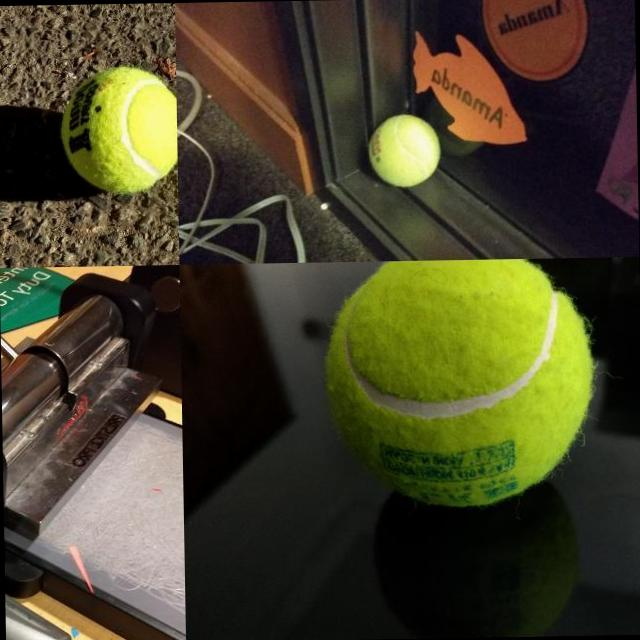Tennis Ball: (323, 257, 596, 511), (58, 66, 178, 196), (366, 113, 442, 188)
